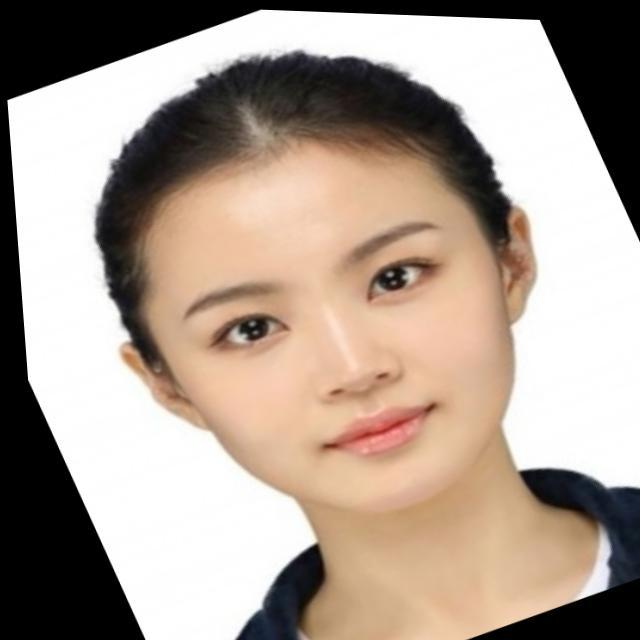Nonhelmet: (90, 46, 545, 516)
